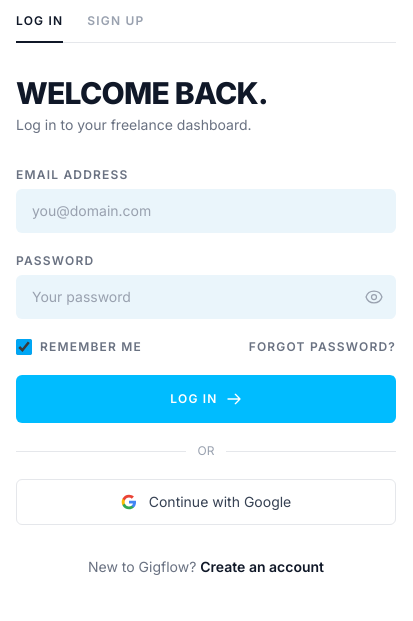
Scenario: LoginPage Component Tests › shows validation error messages on empty form submission
The image size is (413, 621).
Click the button "LOG IN": (206, 399) [16,375,396,423]
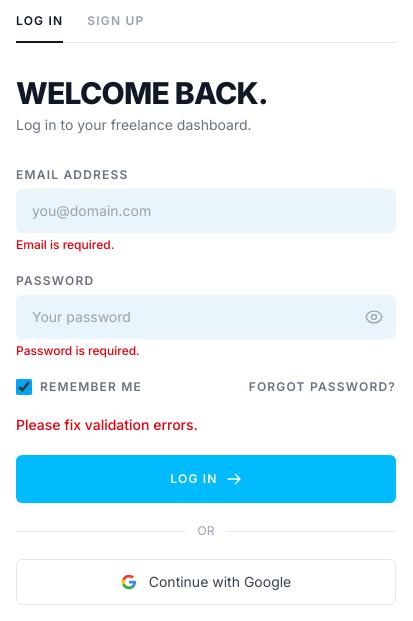
Now the text "Email is required." is shown, box [16,237,114,252]
Now the text "Password is required." is shown, box [16,343,140,358]
